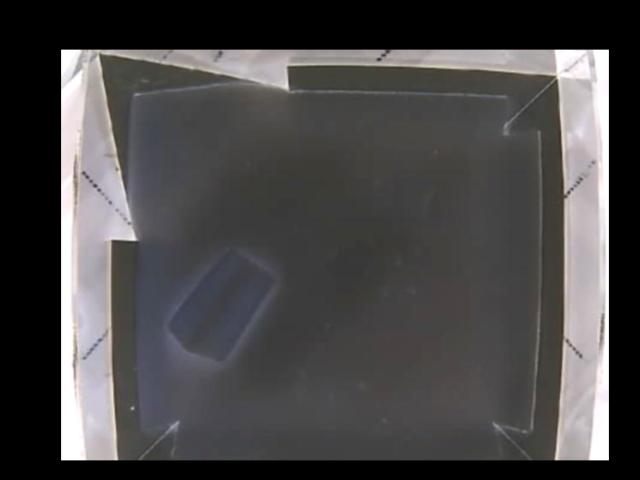Mooli: (164, 246, 275, 361)
